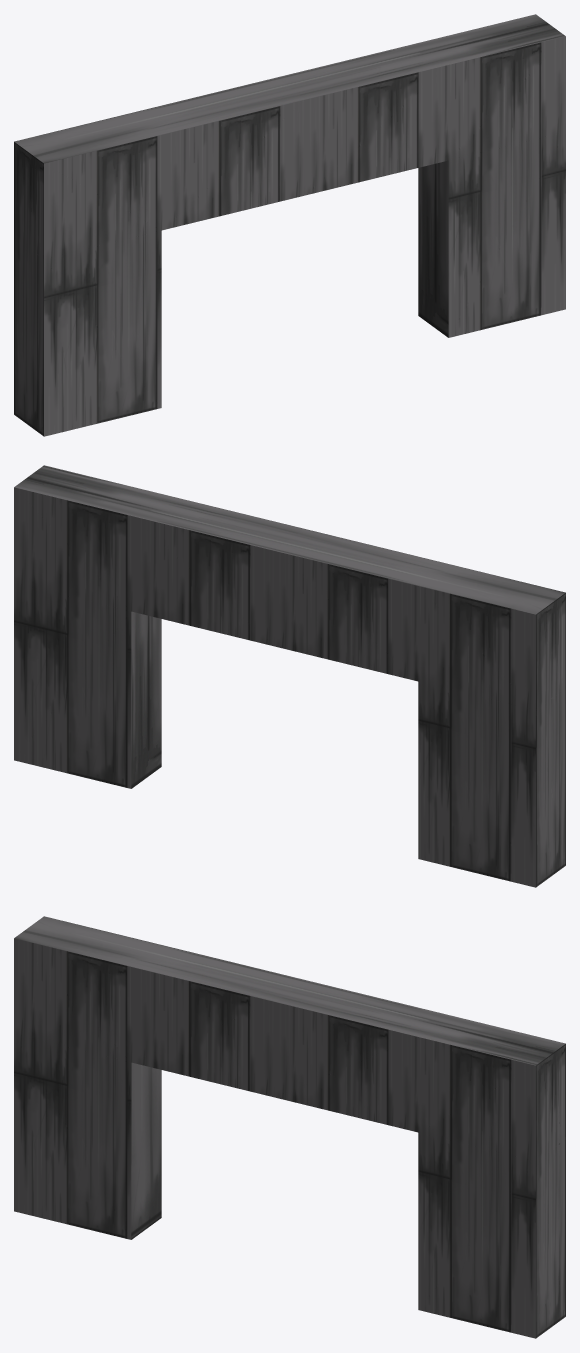
File: Wall_DoubleDoor.fbx
3 renders of one model, top to bottom at view 1: azimuth 30°, elevation 25°; view 2: azimuth 150°, elevation 25°; view 3: azimuth 330°, elevation 25°, orthographic.
Visible parts, largest first — view 1: Wall_w_DoubleDoor; view 2: Wall_w_DoubleDoor; view 3: Wall_w_DoubleDoor.
Boxes of the visible parts, x1,y1,x2,y2 form: Wall_w_DoubleDoor: [14, 14, 565, 436]; Wall_w_DoubleDoor: [14, 465, 565, 887]; Wall_w_DoubleDoor: [14, 916, 565, 1338].
Size of the model in its own units: 10 by 5 by 1.
